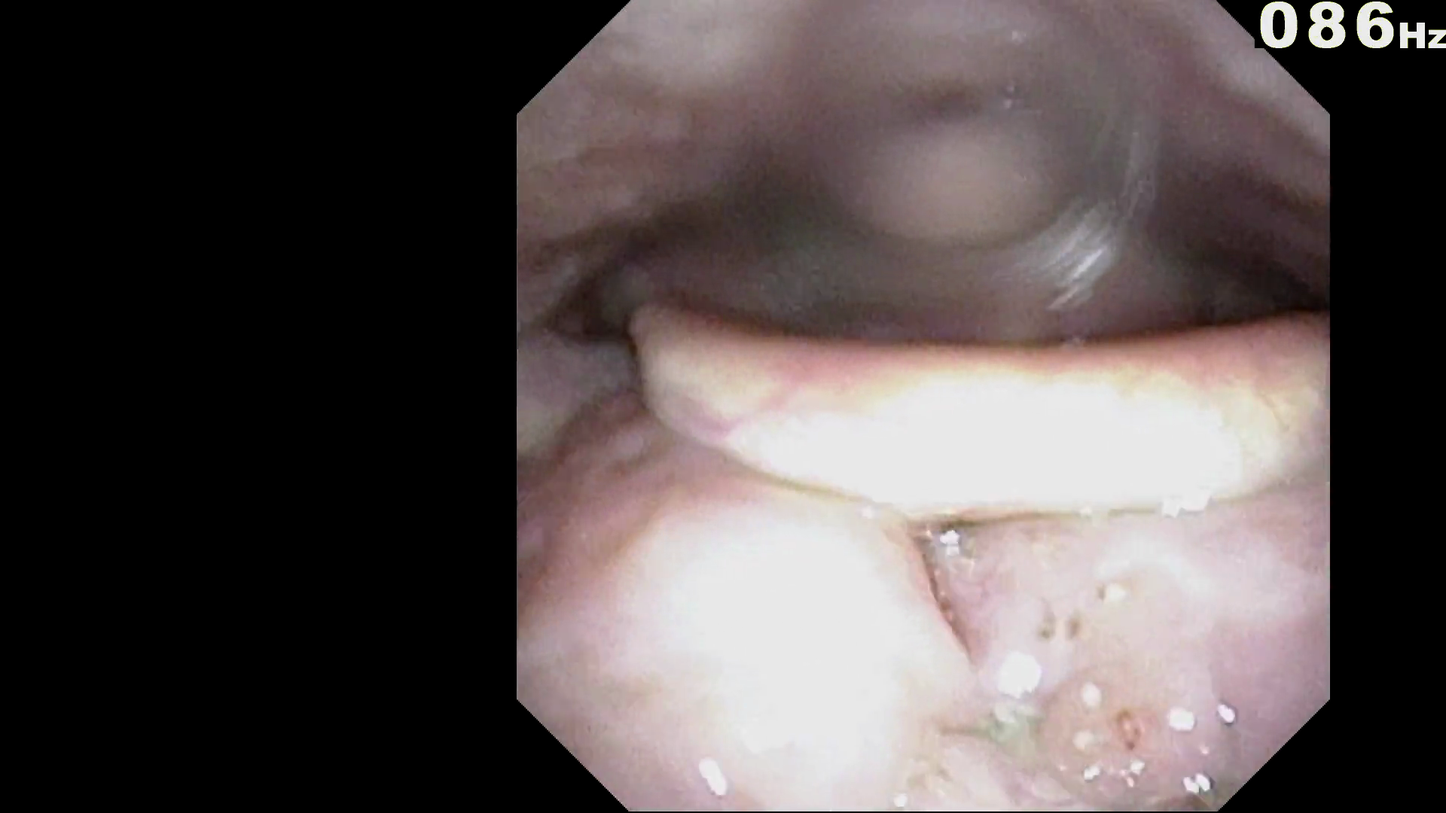epiglottis: (649, 375, 1302, 599)
